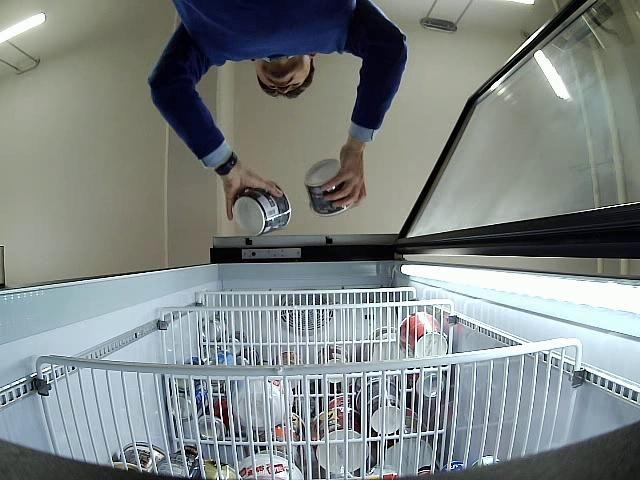07_buldak_L: (232, 184, 292, 236), (304, 158, 356, 214)
